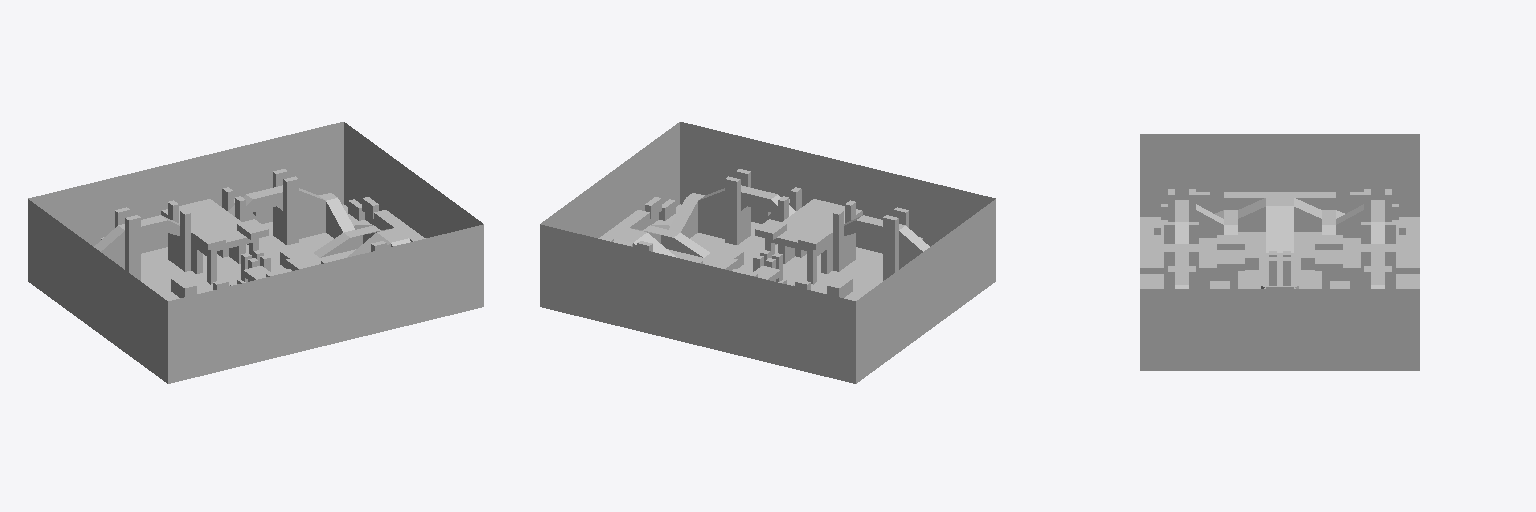
The model's file is Reaper Rumble Reality 2.obj.
3 views of the same model, side by side, from view 1: azimuth 30°, elevation 25°; view 2: azimuth 150°, elevation 25°; view 3: azimuth 270°, elevation 25° (orthographic).
Visible parts, largest first — view 1: Plane; view 2: Plane; view 3: Plane.
Boxes of the visible parts, x1=… form: Plane: x1=28, y1=122, x2=483, y2=383; Plane: x1=540, y1=122, x2=995, y2=383; Plane: x1=1140, y1=134, x2=1419, y2=370.
Size of the model in its own units: 52 by 14 by 40.